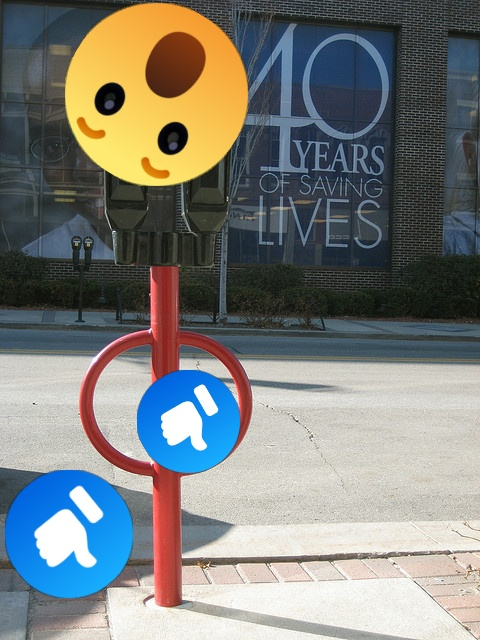like: (5, 470, 133, 598), (137, 370, 240, 473)
wow: (65, 3, 248, 186)
